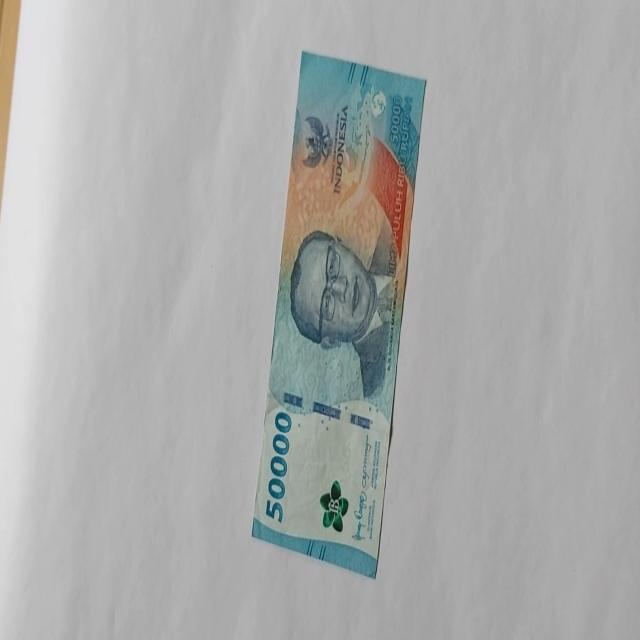lima puluh ribu rupiah: (250, 49, 427, 579)
